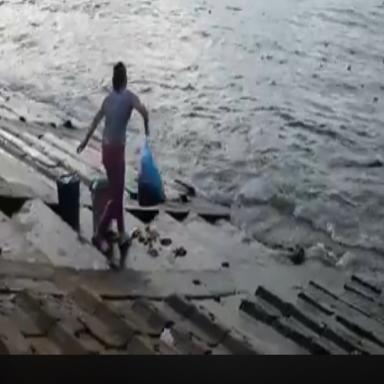plasticbag: (131, 130, 175, 225)
